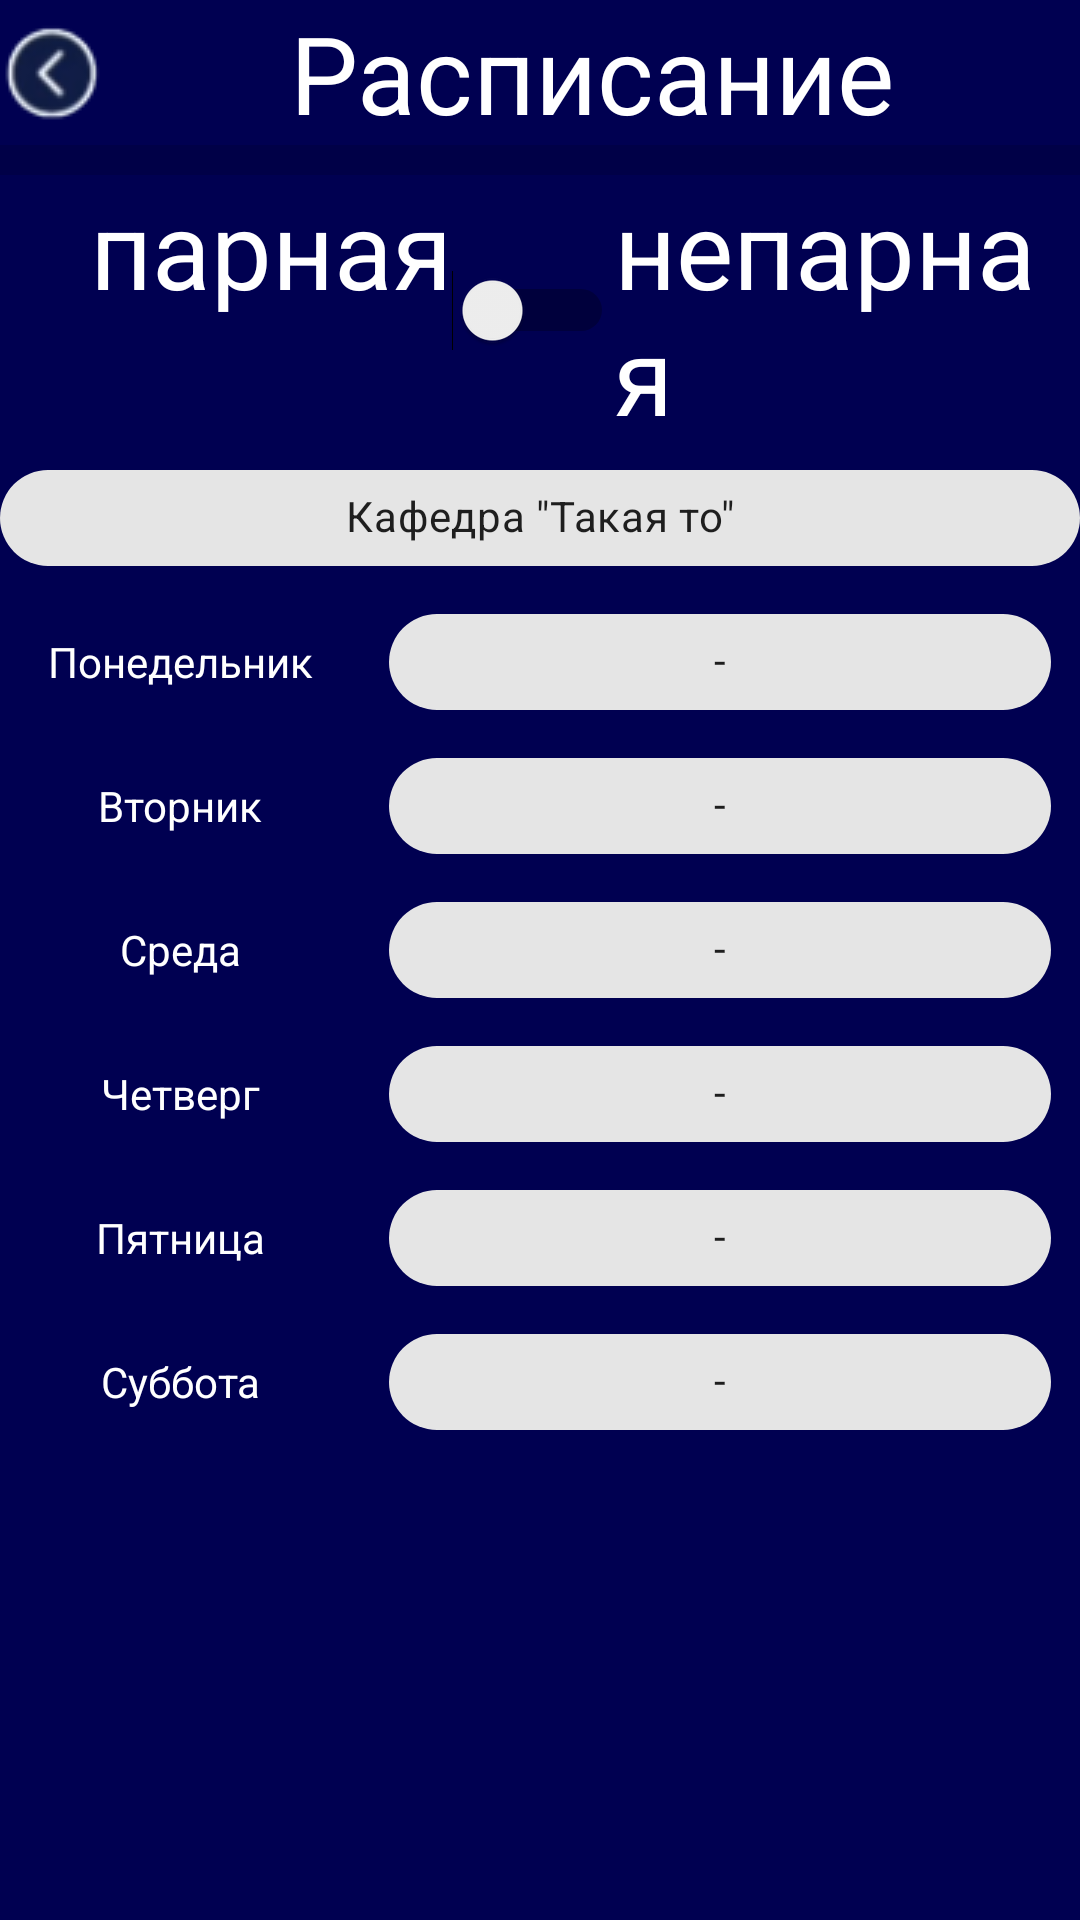

Icons on this 1080w x 1920h Android screen, each with its box as [x1, y1, x2, y2]:
backbutton: [6, 28, 98, 119]
